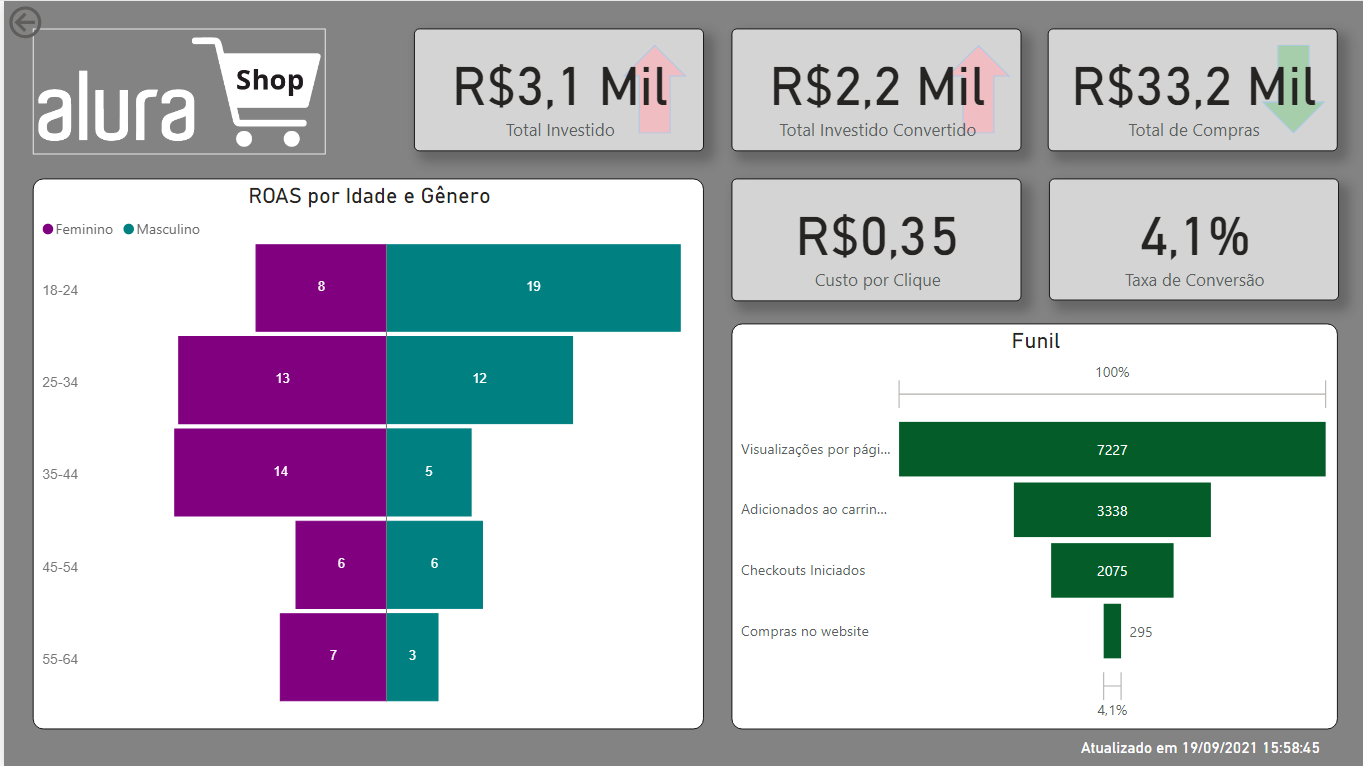

What the dashboard file says about the page in this screenshot:
{"tool":"powerbi","page":{"name":"Retorno Campanha","canvas":[1280,720],"ordinal":0},"visuals":[{"type":"shape","box":[580.5,41,59.8,83.3],"z":0},{"type":"shape","box":[1179.7,41,59.8,83.3],"z":1000},{"type":"shape","box":[884.2,41,59.8,83.3],"z":2000},{"type":"card","fields":{"Values":["Sum(Tabela_idade_e_genero.Valor de conversão de compras)"]},"box":[979.2,25.6,272.1,114.9],"z":3000},{"type":"image","box":[27,25.6,275.6,118.4],"z":4000},{"type":"card","fields":{"Values":["Tabela_idade_e_genero.Tot_Invest_Comprado"]},"box":[682.5,25.8,272.1,114.9],"z":5000},{"type":"card","fields":{"Values":["Sum(Tabela_idade_e_genero.Quantia gasta (BRL))"]},"box":[384.6,25.8,272.1,114.9],"z":6000},{"type":"card","fields":{"Values":["Tabela_idade_e_genero.Custo por Clique"]},"box":[682.5,166.5,272.1,114.9],"z":7000},{"type":"TornadoChart1452517688218","fields":{"Values":["Tabela_idade_e_genero.ROAS"],"Series":["Tabela_idade_e_genero.Gênero"],"Category":["Tabela_idade_e_genero.Idade"]},"box":[27,166.5,629.7,517.1],"z":8000},{"type":"card","fields":{"Values":["Tabela_idade_e_genero.Tx Conversao"]},"box":[980,166.1,271.7,114.6],"z":9000},{"type":"actionButton","box":[0,0,100,40],"z":10000},{"type":"funnel","title":"Funil","fields":{"Y":["Sum(Tabela_idade_e_genero.Visualizações por página)","Sum(Tabela_idade_e_genero.Adicionados ao carrinho)","Sum(Tabela_idade_e_genero.Checkouts Iniciados)","Sum(Tabela_idade_e_genero.Compras no website)"]},"box":[682.5,302.6,569.2,381.2],"z":11000},{"type":"card","fields":{"Values":["Atualização.Atualização"]},"box":[994.1,683.8,256.3,36.1],"z":11001}]}

Visuals, with their boxes in screenshot pixels (x1, y1, x2, y2), scaled from the page's 1280x720 canvas onto the 1363x766 screenshot:
shape: left=618, top=44, right=682, bottom=132
shape: left=1256, top=44, right=1320, bottom=132
shape: left=942, top=44, right=1005, bottom=132
card - Sum(Tabela_idade_e_genero.Valor de conversão de compras): left=1043, top=27, right=1332, bottom=149
image: left=29, top=27, right=322, bottom=153
card - Tabela_idade_e_genero.Tot_Invest_Comprado: left=727, top=27, right=1016, bottom=150
card - Sum(Tabela_idade_e_genero.Quantia gasta (BRL)): left=410, top=27, right=699, bottom=150
card - Tabela_idade_e_genero.Custo por Clique: left=727, top=177, right=1016, bottom=299
TornadoChart1452517688218 - Tabela_idade_e_genero.ROAS x Tabela_idade_e_genero.Gênero: left=29, top=177, right=699, bottom=727
card - Tabela_idade_e_genero.Tx Conversao: left=1044, top=177, right=1333, bottom=299
actionButton: left=0, top=0, right=106, bottom=43
"Funil" funnel: left=727, top=322, right=1333, bottom=727
card - Atualização.Atualização: left=1059, top=727, right=1331, bottom=765
